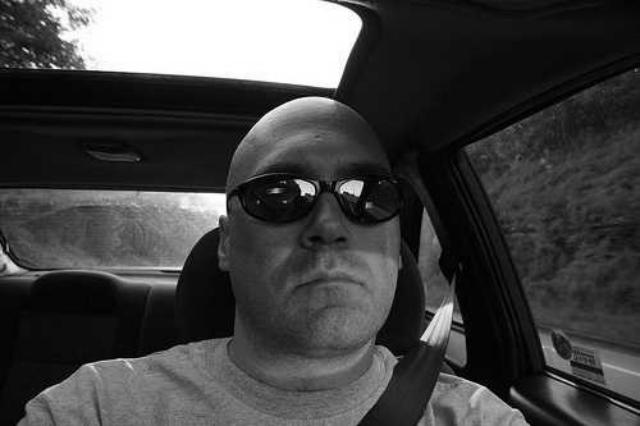Seatbelt: (349, 252, 461, 426)
